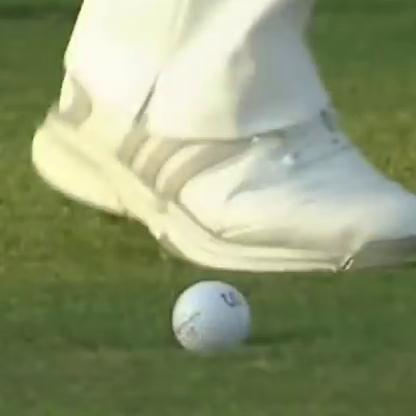golfball: (167, 278, 249, 355)
